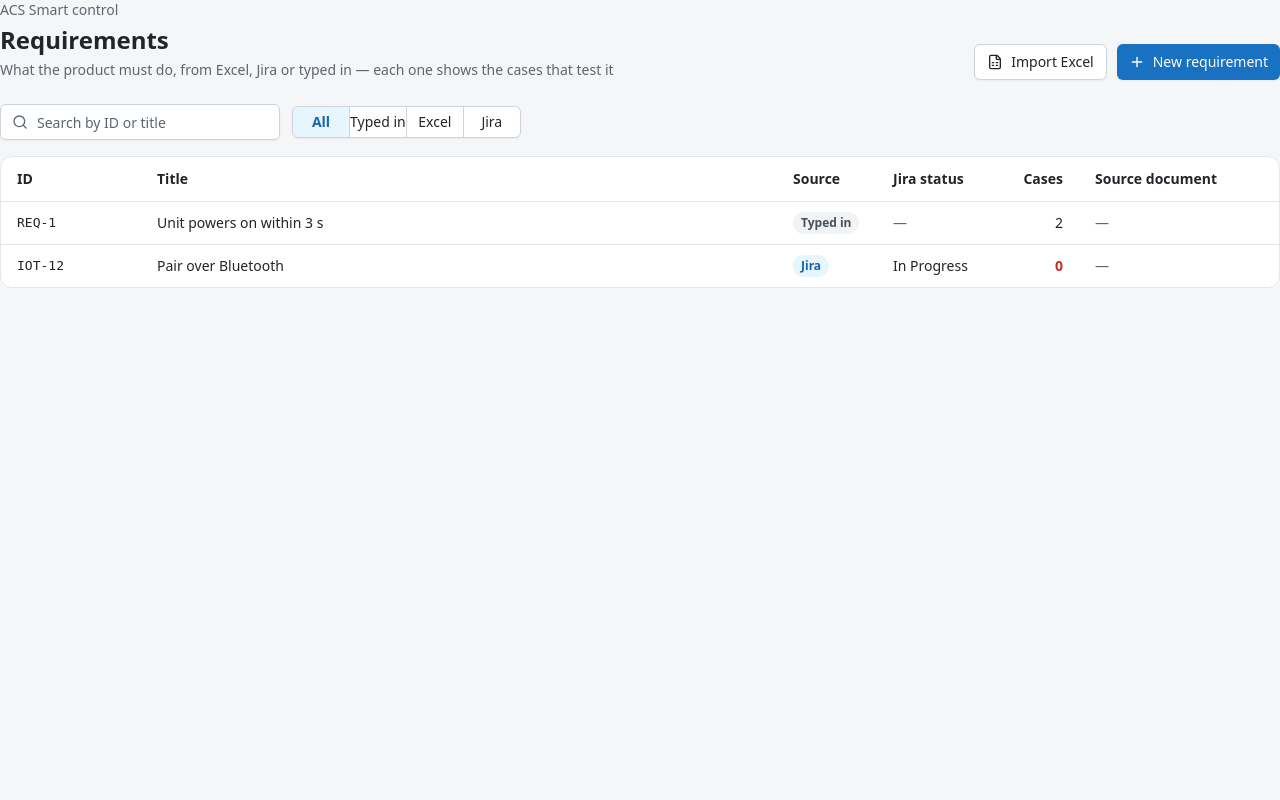
Scenario: Requirements page › deletes a requirement without fetching it again
Click the text "REQ-1" at point(37, 223), box top-left (17, 215), bottom-right (56, 230)
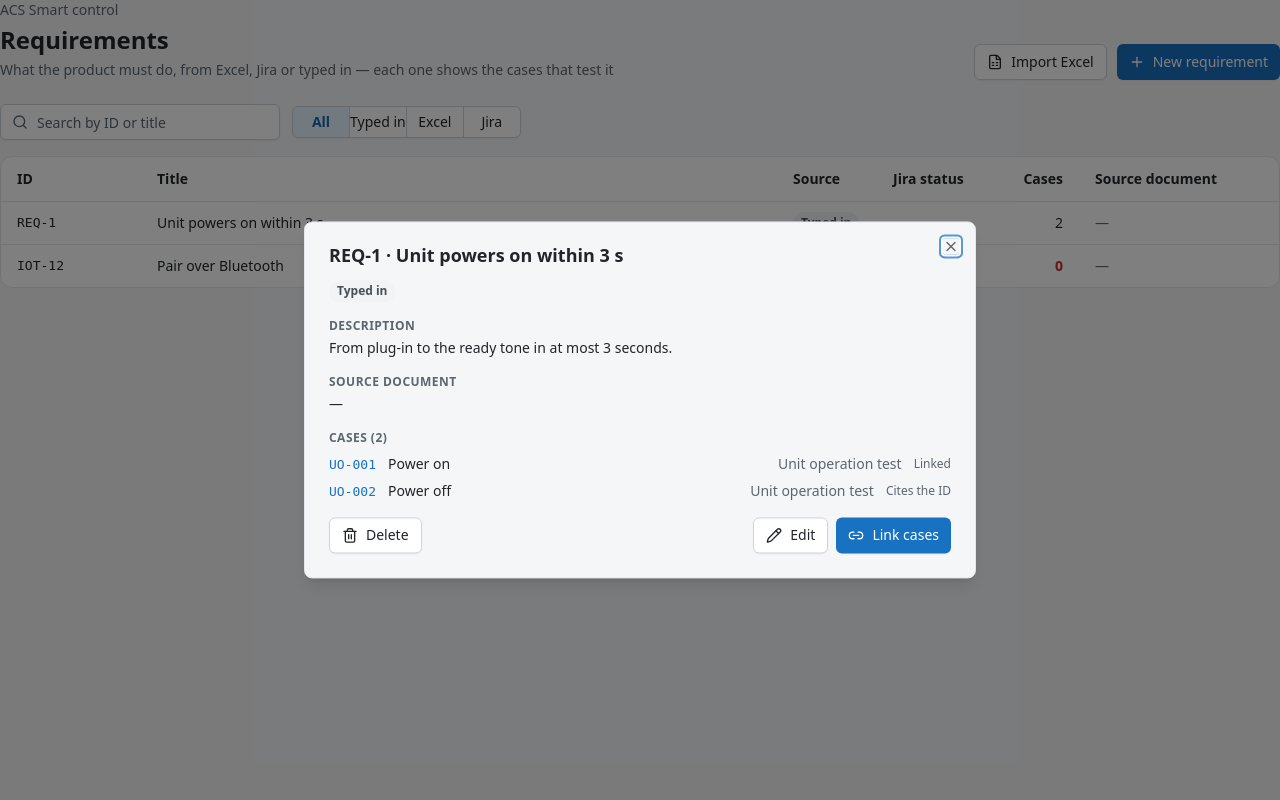
Click the button with aria-label "Delete requirement" at point(375, 536), box top-left (329, 518), bottom-right (422, 554)
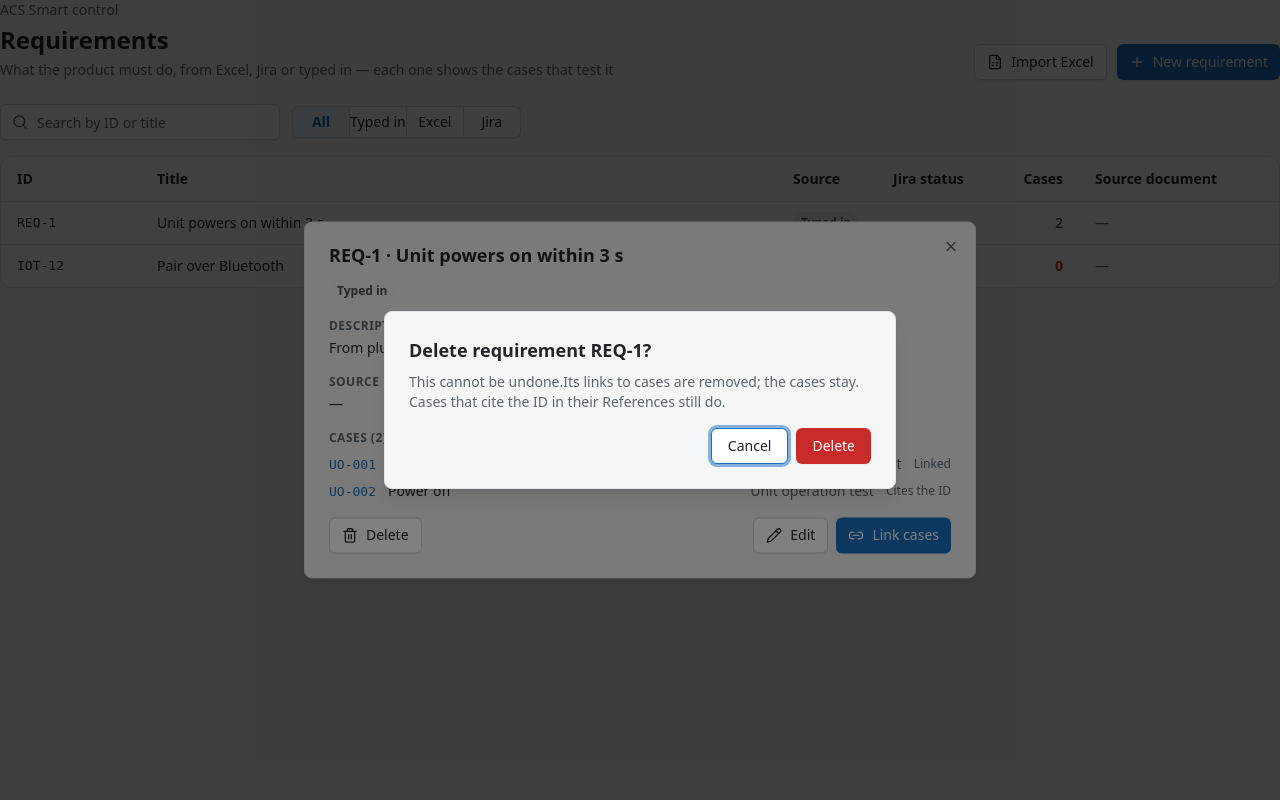
Click the button "Delete" at point(834, 446), box top-left (796, 428), bottom-right (871, 464)
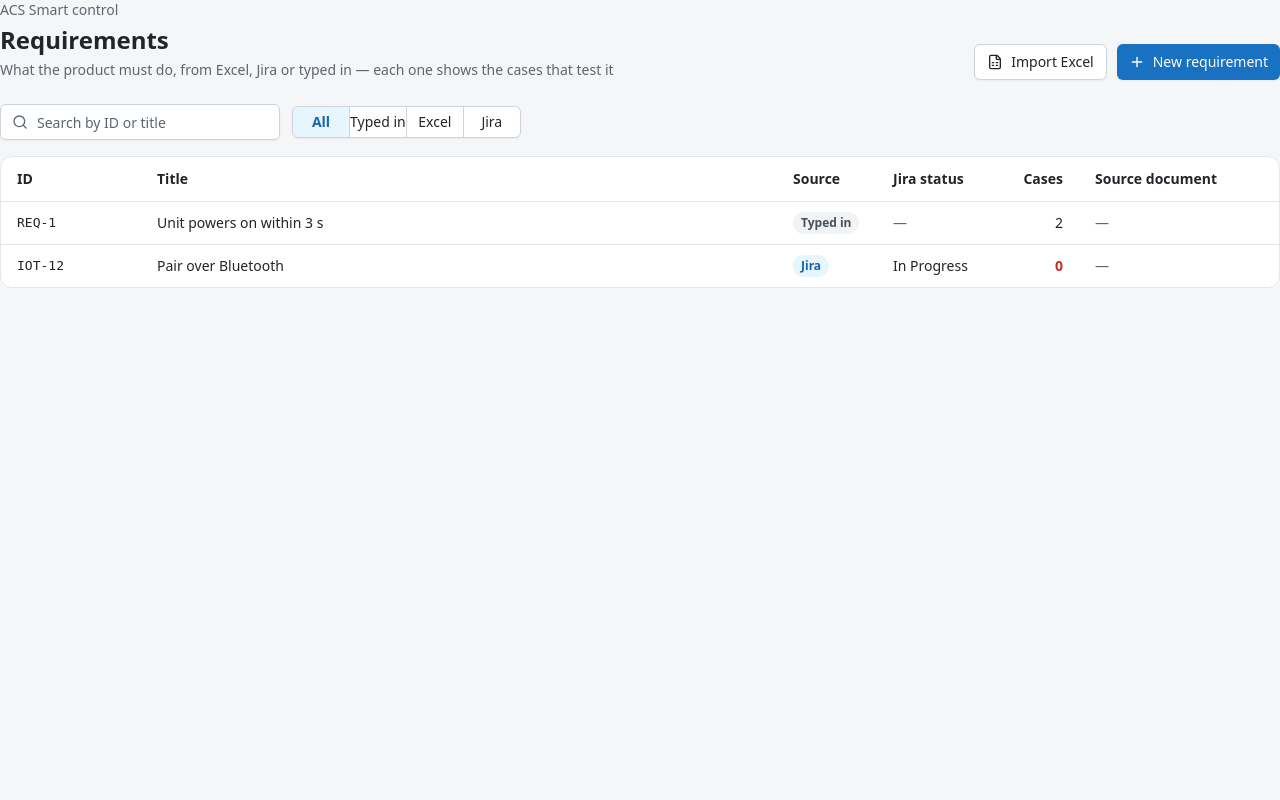
Expected: the dialog is gone
